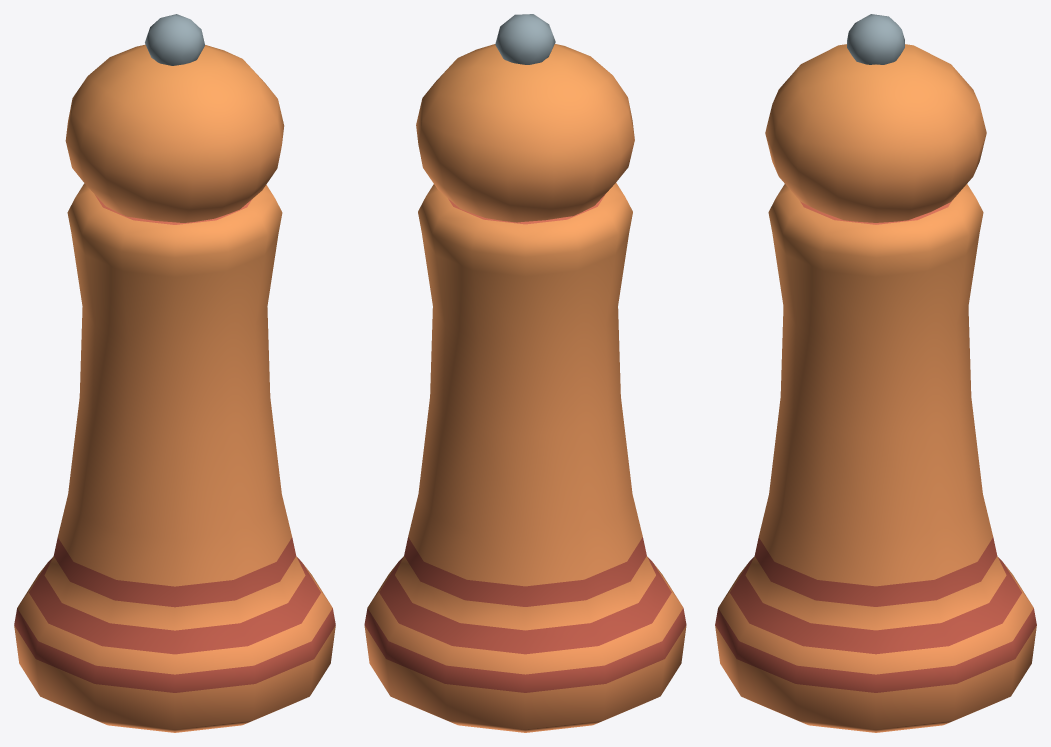
File: Salt_shaker_001.fbx
The picture shows the model from 3 angles, left to right: view 1: azimuth 30°, elevation 25°; view 2: azimuth 150°, elevation 25°; view 3: azimuth 270°, elevation 25°; orthographic projection.
Visible parts, largest first — view 1: Salt_shaker_001; view 2: Salt_shaker_001; view 3: Salt_shaker_001.
Part boxes in pixels (box(x1,y1,x2,y2)): Salt_shaker_001: box(14, 14, 335, 732); Salt_shaker_001: box(364, 14, 686, 732); Salt_shaker_001: box(715, 14, 1036, 732).
Size of the model in its own units: 0.0913 by 0.2066 by 0.0913.
